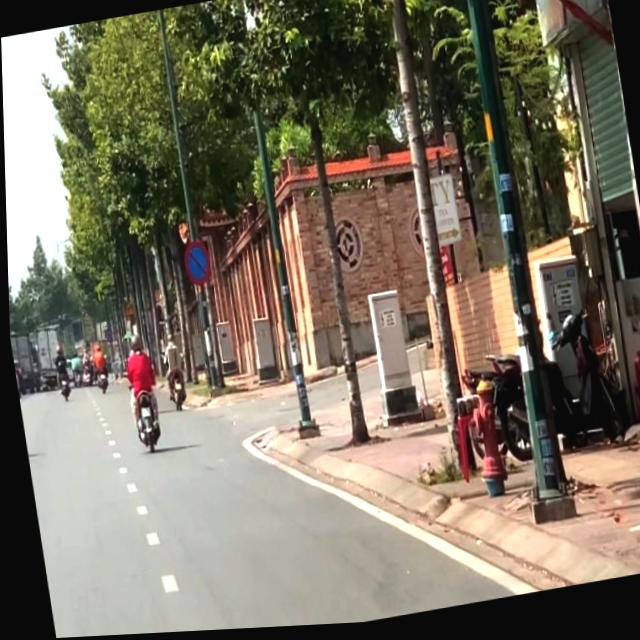Cam do xe: (179, 240, 211, 288)
Cam dung xe va do xe: (102, 329, 112, 343)
cho ngoat nguy hiem vong ben phai: (121, 300, 133, 318)
